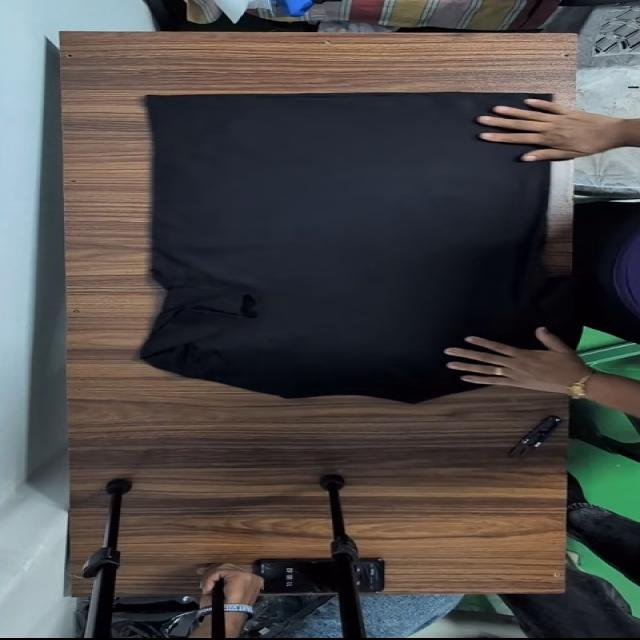new-garment: (140, 93, 573, 402)
